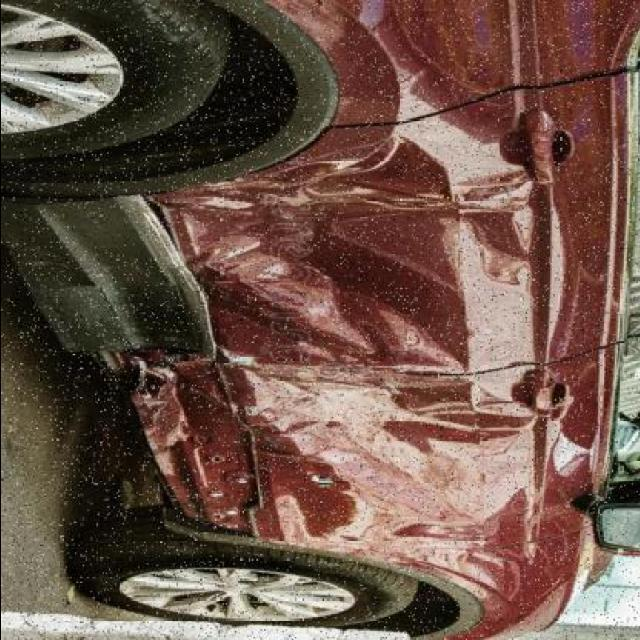doorouter-dent: (164, 59, 623, 352), (242, 353, 614, 545)
